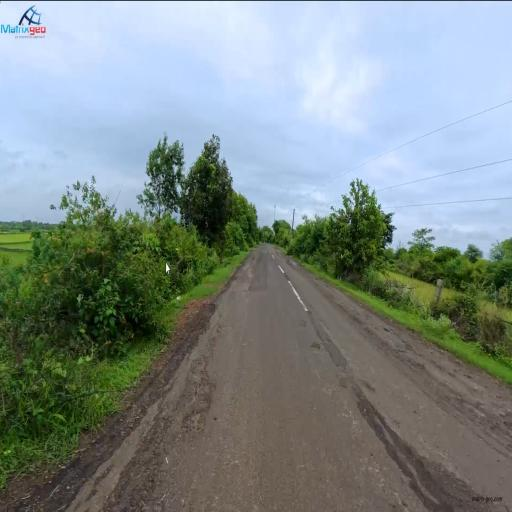edge_damage: (157, 362, 188, 409), (123, 419, 147, 466), (203, 307, 218, 354)
